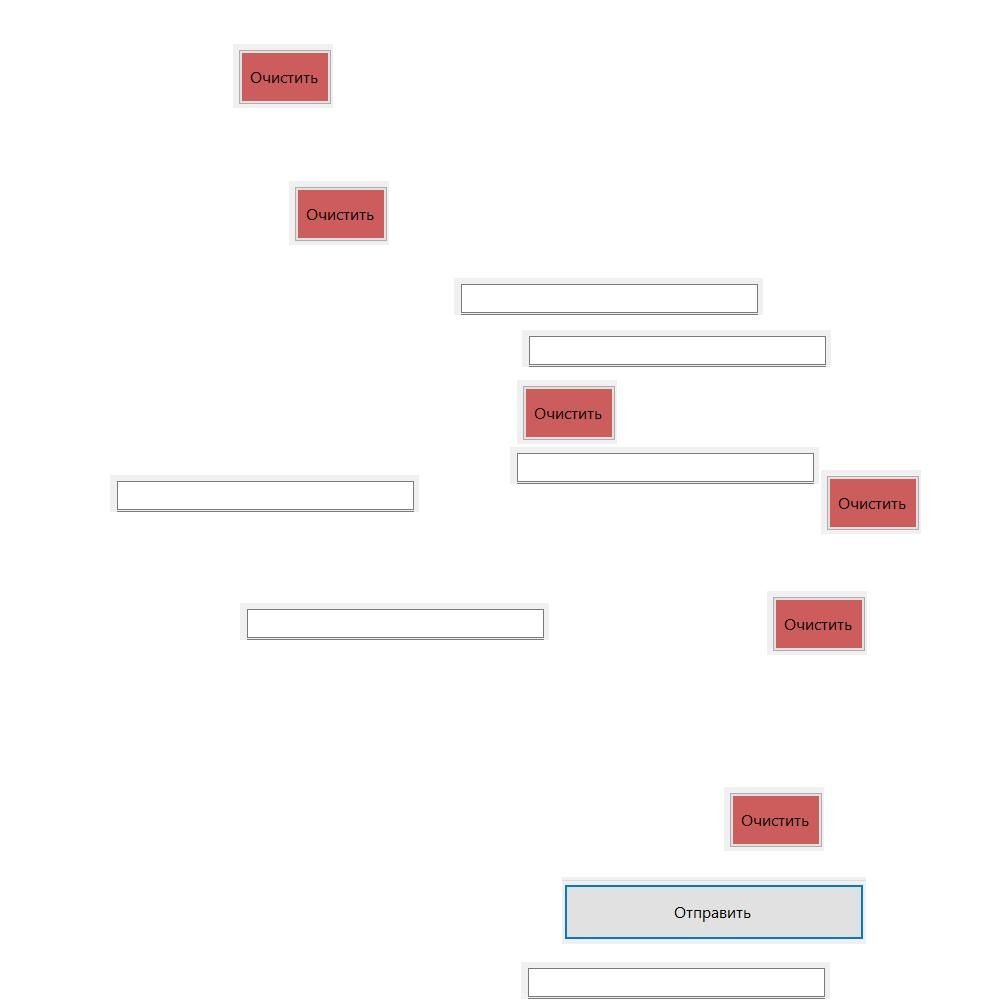Button: (562, 877, 866, 944), (517, 380, 617, 444), (767, 591, 867, 655), (724, 787, 824, 851), (289, 181, 389, 245), (821, 470, 921, 534), (233, 44, 333, 108)
EditText-: (240, 603, 549, 640), (522, 330, 831, 367), (521, 962, 830, 999), (110, 475, 419, 512), (454, 278, 763, 315), (510, 447, 819, 484)
